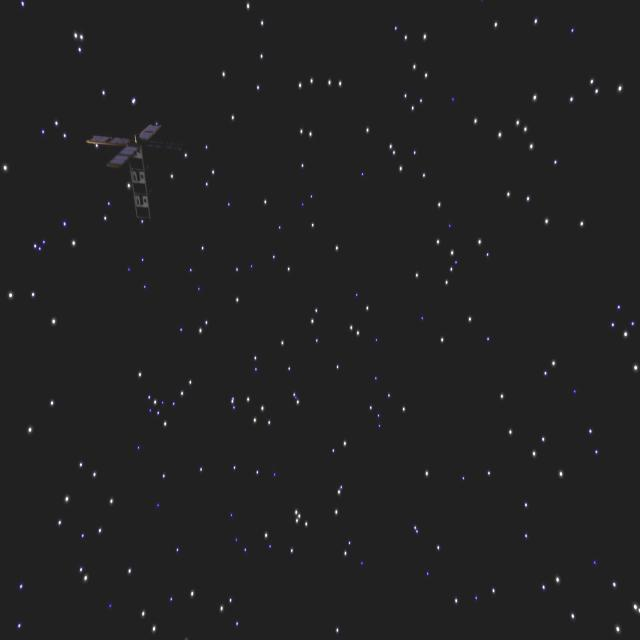satellite: (88, 117, 170, 217)
